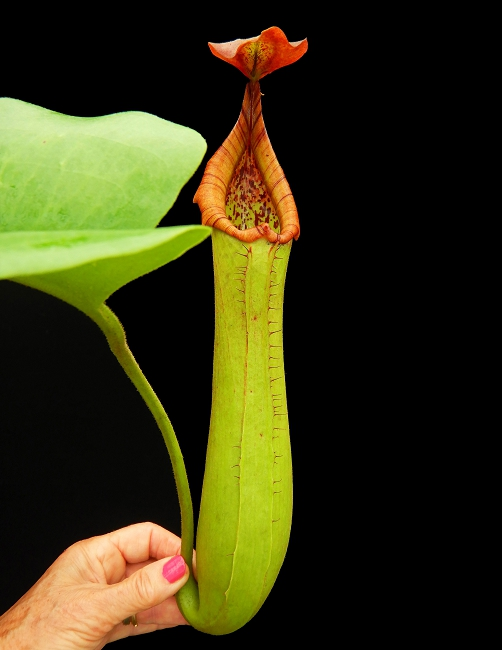truncata: (114, 19, 348, 642)
